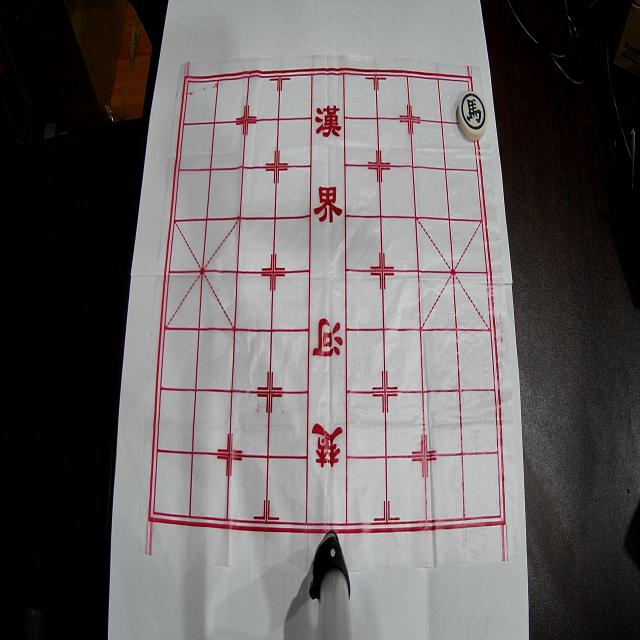black-horse: (458, 91, 488, 141)
